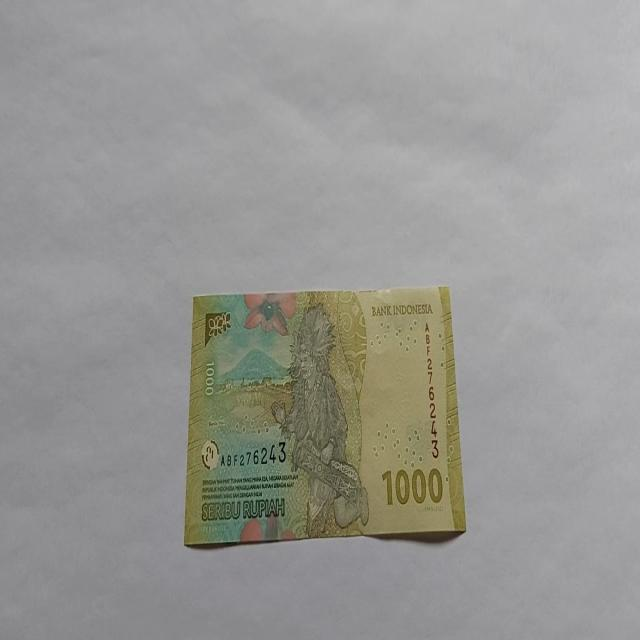seribu rupiah kertas: (183, 284, 467, 548)
